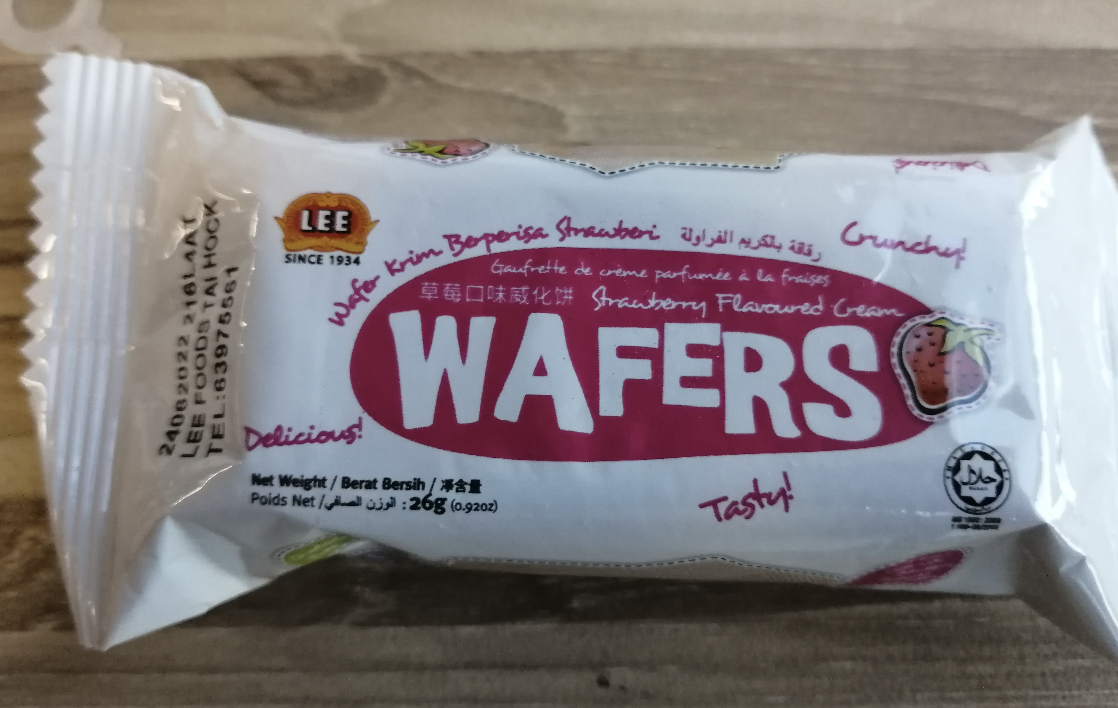Wafers: (86, 159, 1087, 550)
